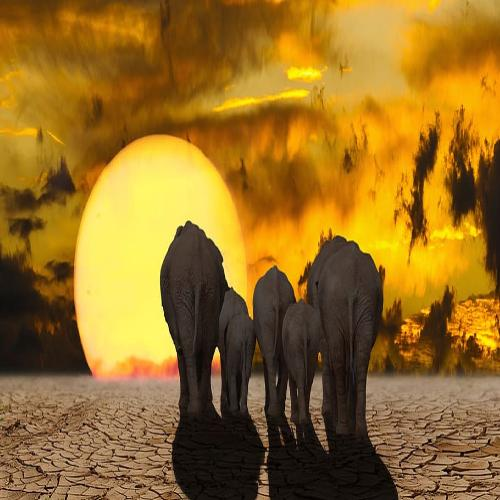asian_elephant-endangered: (307, 235, 385, 437), (158, 220, 228, 414), (254, 270, 297, 413), (282, 298, 325, 424), (216, 288, 256, 414)
